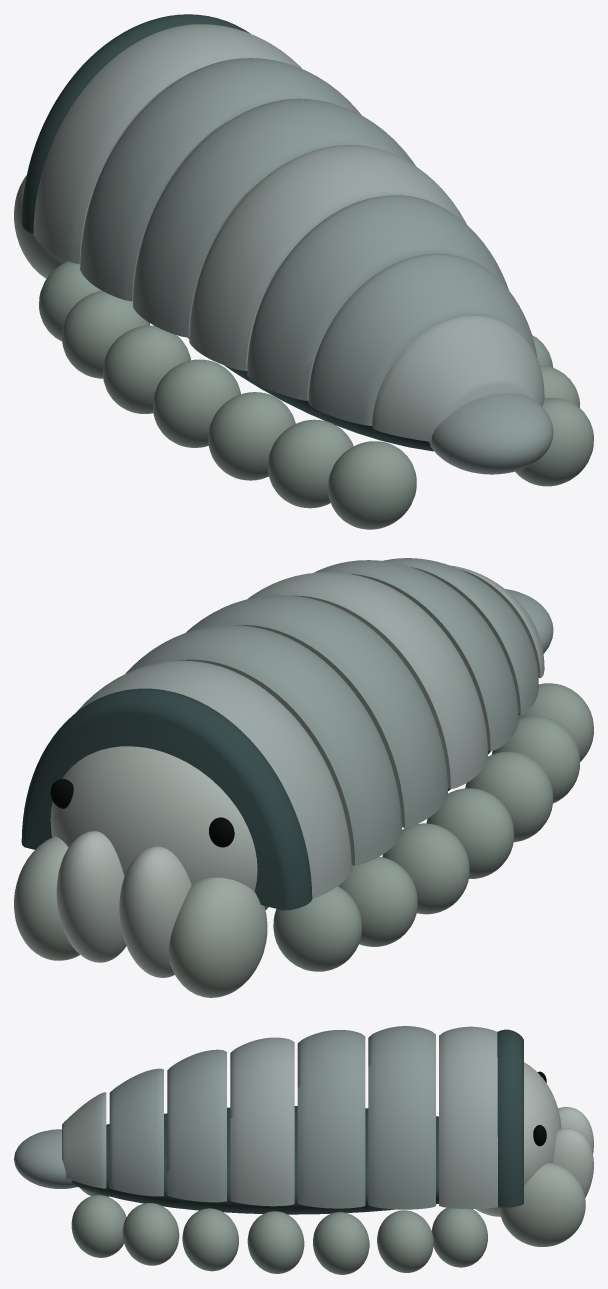
File: crepper.obj
3 views of the same model, one above another, from view 1: azimuth 30°, elevation 25°; view 2: azimuth 150°, elevation 25°; view 3: azimuth 270°, elevation 25° (orthographic). The views are drawn at different scales.
Visible parts, largest first — view 1: placa_03, placa_04, placa_05, placa_02, placa_01, placa_06, placa_07, cola, pata_izquierda_7, pata_izquierda_5, pata_izquierda_4, pata_izquierda_6 (+8 smaller); view 2: borde_frontal, placa_02, cabeza, placa_03, placa_01, placa_04, apendice_exterior_izquierda, placa_05, apendice_central_derecha, apendice_central_izquierda, pata_izquierda_1, pata_izquierda_3 (+10 smaller); view 3: placa_02, placa_03, placa_04, placa_01, placa_05, placa_06, apendice_exterior_derecha, borde_frontal, cuerpo_inferior, placa_07, cabeza, pata_derecha_4 (+9 smaller).
Boxes of the visible parts, left/top/right/bottom form: placa_03: left=133, top=98, right=415, bottom=337; placa_04: left=189, top=145, right=466, bottom=371; placa_05: left=247, top=195, right=508, bottom=400; placa_02: left=80, top=58, right=361, bottom=301; placa_01: left=33, top=24, right=301, bottom=264; placa_06: left=308, top=253, right=537, bottom=425; placa_07: left=372, top=316, right=544, bottom=441; cola: left=429, top=393, right=553, bottom=474; pata_izquierda_7: left=328, top=441, right=416, bottom=529; pata_izquierda_5: left=208, top=392, right=295, bottom=480; pata_izquierda_4: left=153, top=359, right=240, bottom=447; pata_izquierda_6: left=268, top=419, right=353, bottom=508; borde_frontal: left=21, top=688, right=312, bottom=910; placa_02: left=125, top=625, right=401, bottom=865; cabeza: left=50, top=746, right=268, bottom=910; placa_03: left=186, top=595, right=447, bottom=827; placa_01: left=76, top=660, right=351, bottom=898; placa_04: left=247, top=572, right=487, bottom=789; apendice_exterior_izquierda: left=168, top=877, right=267, bottom=997; placa_05: left=314, top=560, right=518, bottom=751; apendice_central_derecha: left=56, top=831, right=126, bottom=962; apendice_central_izquierda: left=119, top=846, right=191, bottom=977; pata_izquierda_1: left=273, top=886, right=361, bottom=971; pata_izquierda_3: left=382, top=823, right=469, bottom=914; placa_02: left=368, top=1026, right=435, bottom=1209; placa_03: left=297, top=1030, right=365, bottom=1208; placa_04: left=230, top=1037, right=294, bottom=1206; placa_01: left=439, top=1026, right=497, bottom=1209; placa_05: left=167, top=1049, right=226, bottom=1202; placa_06: left=109, top=1068, right=163, bottom=1196; apendice_exterior_derecha: left=500, top=1163, right=585, bottom=1246; borde_frontal: left=497, top=1029, right=523, bottom=1207; cuerpo_inferior: left=72, top=1106, right=438, bottom=1214; placa_07: left=62, top=1092, right=106, bottom=1188; cabeza: left=475, top=1062, right=561, bottom=1216; pata_derecha_4: left=247, top=1211, right=304, bottom=1273.
Bounding box in the file's own units: 2.62 × 1.92 × 5.33.
